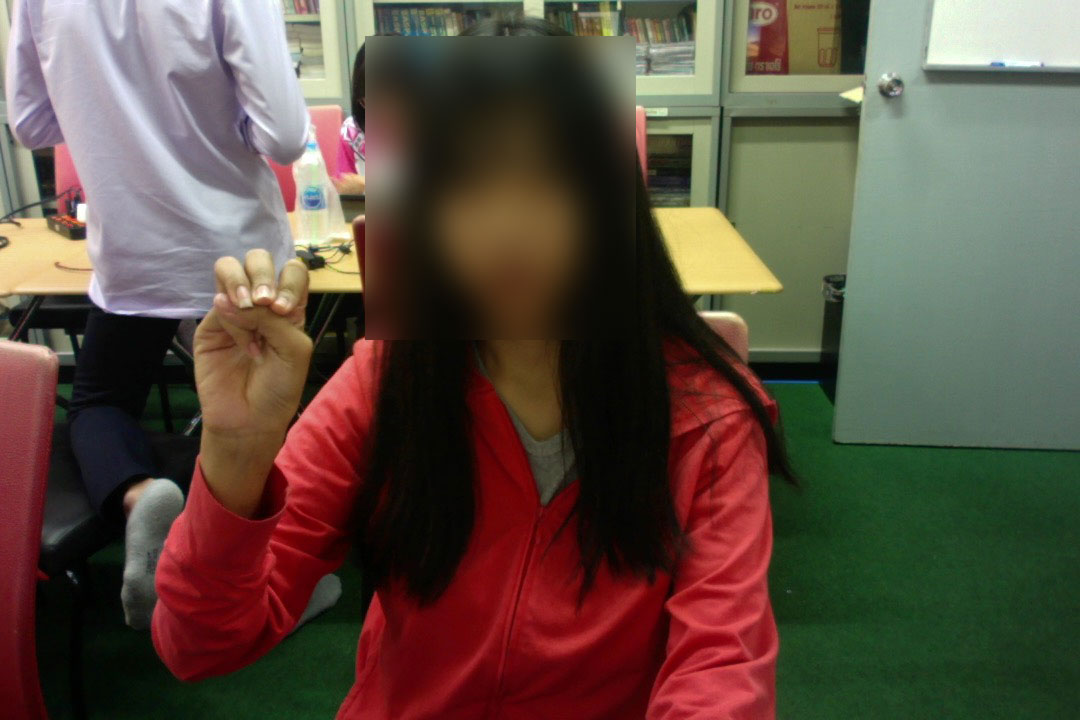mor: (191, 242, 315, 450)
